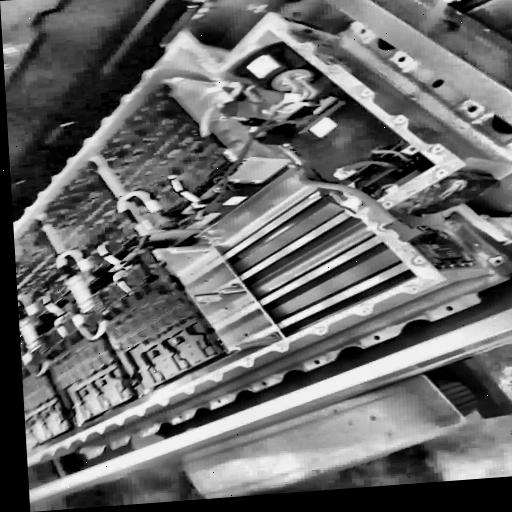high_volt_cable: (6, 73, 494, 384)
